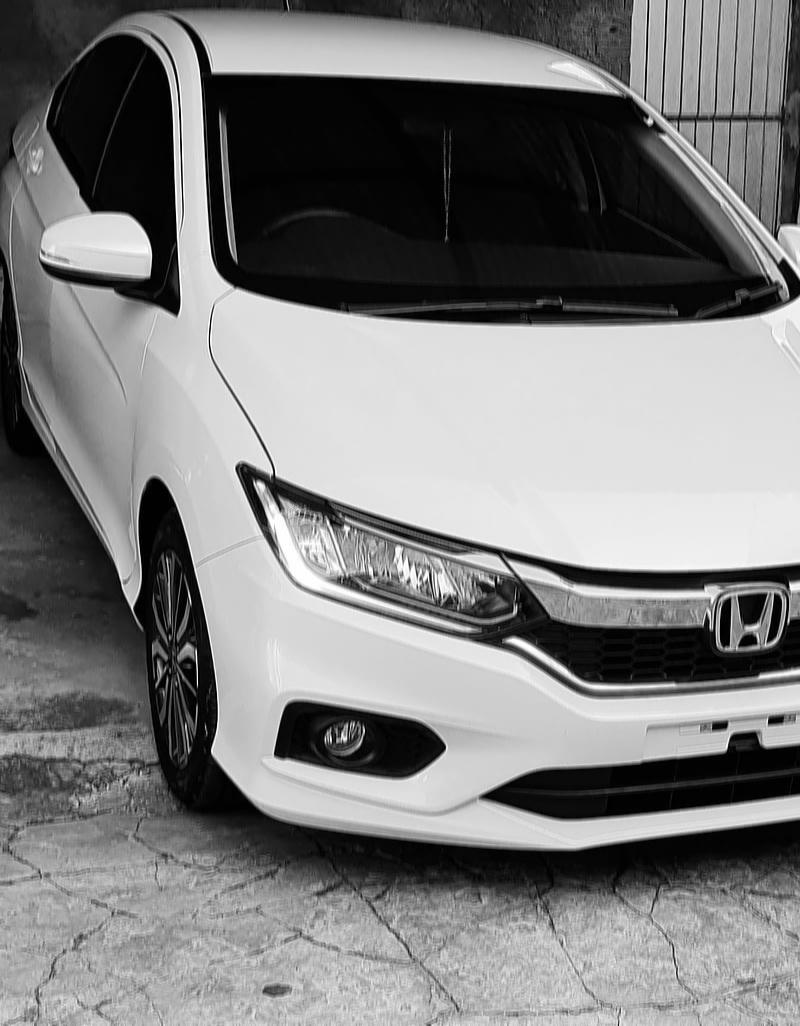Car hood: (204, 278, 800, 574)
Driver-s door - -F-R-: (77, 22, 195, 584)
Fender - -F-R-: (114, 267, 314, 601)
Front bumper: (186, 522, 800, 858)
Headlight - -R-: (222, 448, 548, 654)
Passenger-s door - -R-R-: (8, 10, 128, 443)
Side bumper - -R-: (14, 353, 164, 642)
Side mirror - -L-: (762, 210, 800, 293)
Side mirror - -R-: (32, 192, 164, 298)
